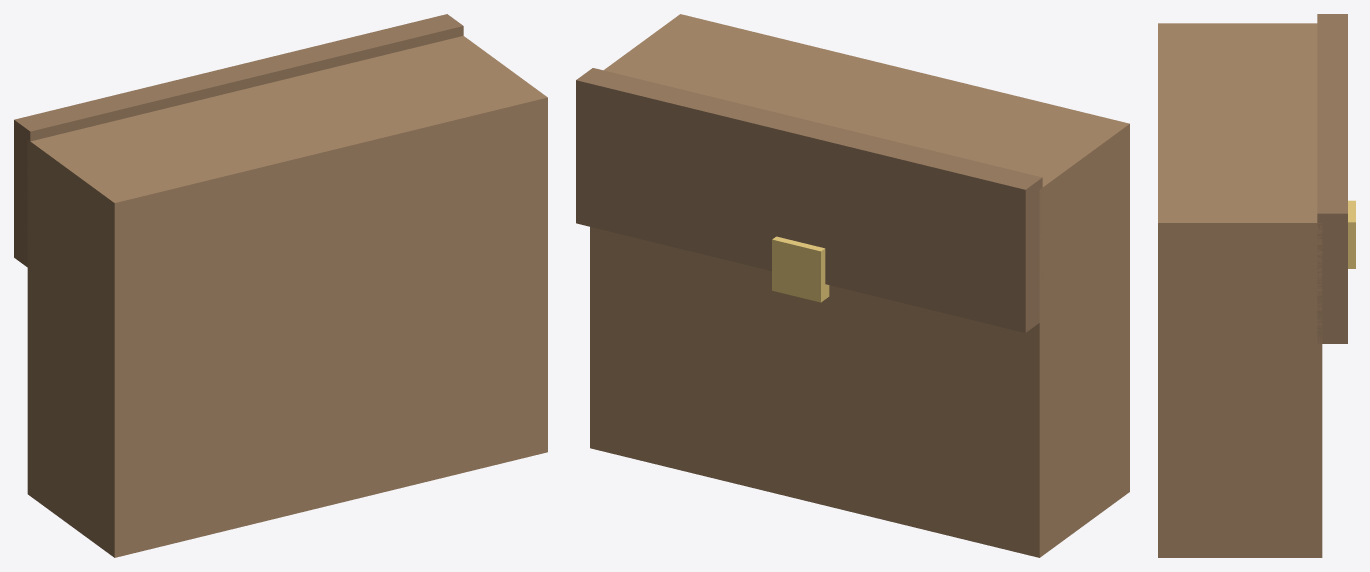
The model's file is press-satchel.glb.
The picture shows the model from 3 angles, left to right: view 1: azimuth 30°, elevation 25°; view 2: azimuth 150°, elevation 25°; view 3: azimuth 270°, elevation 25°; orthographic projection. The views are drawn at different scales.
Parts seen in each view (by area): view 1: press-satchel; view 2: press-satchel; view 3: press-satchel.
Boxes of the visible parts, x1=… form: press-satchel: x1=14, y1=14, x2=547, y2=557; press-satchel: x1=576, y1=14, x2=1129, y2=557; press-satchel: x1=1158, y1=14, x2=1355, y2=557.
Bounding box in the file's own units: 0.46 × 0.37 × 0.1925.
